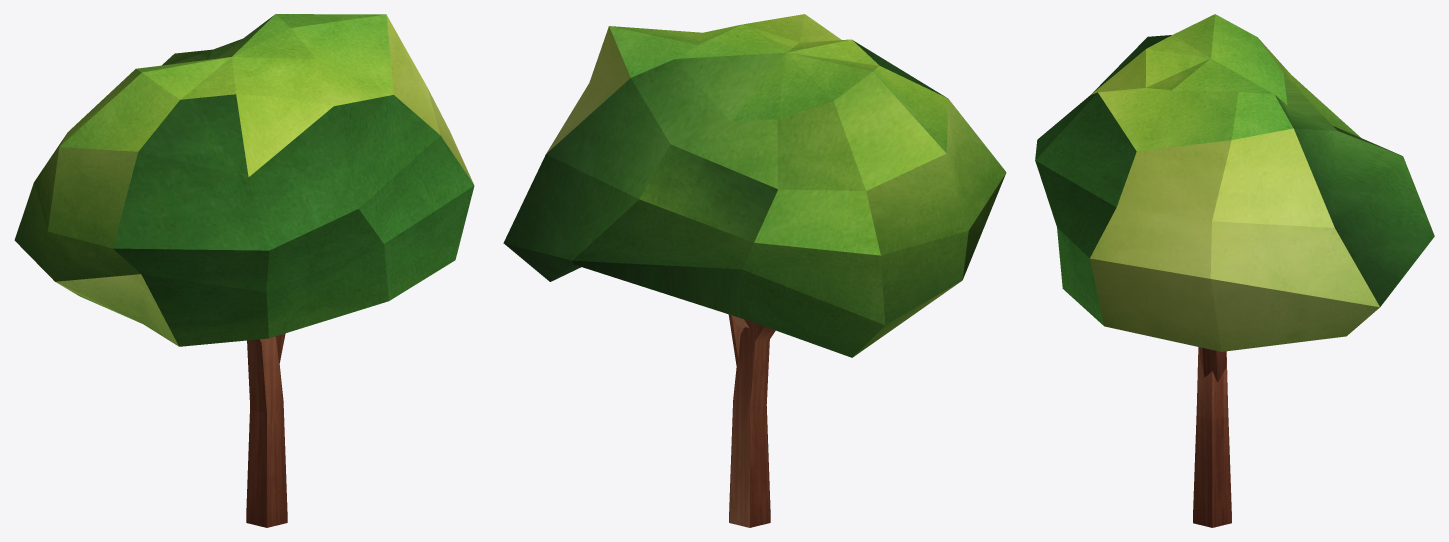
The model's file is Tree_v2.fbx.
3 renders of one model, left to right at view 1: azimuth 30°, elevation 25°; view 2: azimuth 150°, elevation 25°; view 3: azimuth 270°, elevation 25°, orthographic. The views are drawn at different scales.
Visible parts, largest first — view 1: Tree_v2; view 2: Tree_v2; view 3: Tree_v2.
Boxes of the visible parts, left/top/right/bottom form: Tree_v2: left=14, top=14, right=474, bottom=527; Tree_v2: left=503, top=14, right=1006, bottom=527; Tree_v2: left=1035, top=14, right=1434, bottom=527.
Size of the model in its own units: 6.74 by 7.63 by 6.18.
